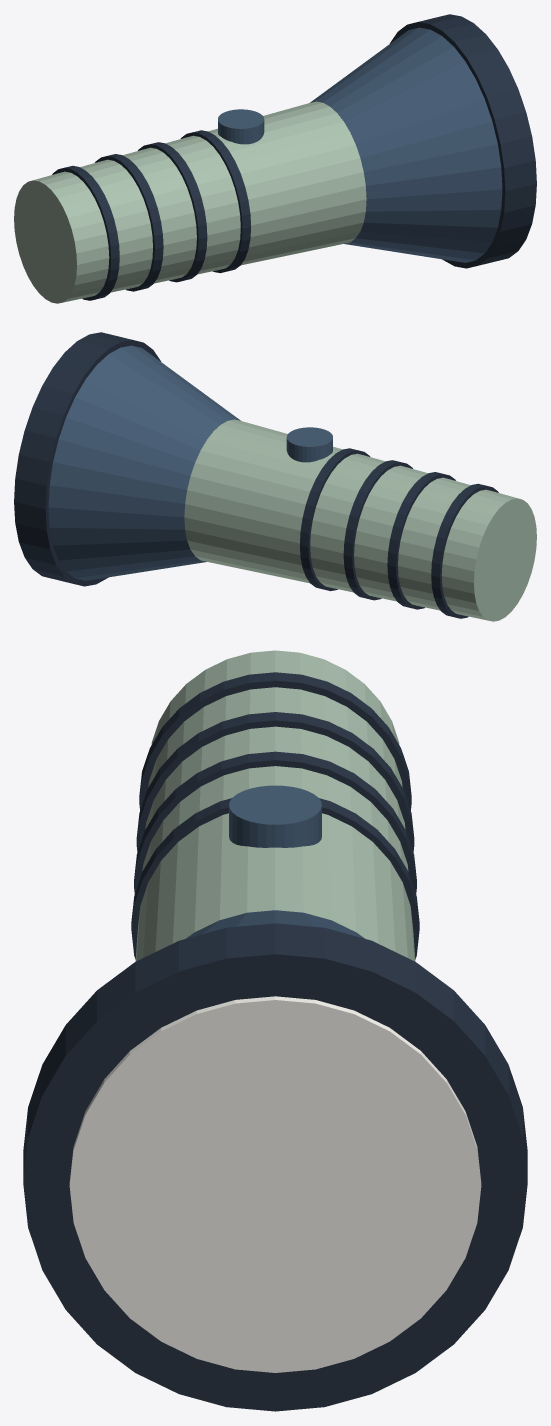
File: flashlight.glb
3 views of the same model, one above another, from view 1: azimuth 30°, elevation 25°; view 2: azimuth 150°, elevation 25°; view 3: azimuth 270°, elevation 25° (orthographic). The views are drawn at different scales.
Parts seen in each view (by area): view 1: grip, head, bezel, grip ring 3, grip ring 2, grip ring 1, grip ring 0, switch; view 2: grip, head, bezel, grip ring 3, grip ring 2, grip ring 1, grip ring 0, switch; view 3: lens, bezel, grip, switch, grip ring 0, grip ring 1, grip ring 2, grip ring 3, head.
Part boxes in pixels (x1=…): grip: x1=14, y1=101, x2=366, y2=303; head: x1=310, y1=27, x2=502, y2=262; bezel: x1=389, y1=14, x2=536, y2=268; grip ring 3: x1=180, y1=130, x2=250, y2=273; grip ring 2: x1=138, y1=142, x2=207, y2=282; grip ring 1: x1=95, y1=154, x2=163, y2=291; grip ring 0: x1=52, y1=165, x2=119, y2=300; switch: x1=218, y1=109, x2=264, y2=144; grip: x1=184, y1=419, x2=536, y2=621; head: x1=48, y1=345, x2=240, y2=580; bezel: x1=14, y1=332, x2=161, y2=586; grip ring 3: x1=300, y1=448, x2=370, y2=591; grip ring 2: x1=343, y1=460, x2=412, y2=600; grip ring 1: x1=387, y1=472, x2=455, y2=609; grip ring 0: x1=431, y1=483, x2=498, y2=618; switch: x1=286, y1=427, x2=332, y2=462; lens: x1=69, y1=996, x2=481, y2=1372; bezel: x1=23, y1=923, x2=527, y2=1411; grip: x1=135, y1=650, x2=415, y2=961; switch: x1=229, y1=785, x2=321, y2=847; grip ring 0: x1=139, y1=672, x2=411, y2=810; grip ring 1: x1=136, y1=712, x2=414, y2=852; grip ring 2: x1=134, y1=751, x2=416, y2=894; grip ring 3: x1=131, y1=798, x2=419, y2=959; head: x1=186, y1=910, x2=364, y2=938.
Size of the model in its own units: 1.5 by 0.76 by 0.76.
